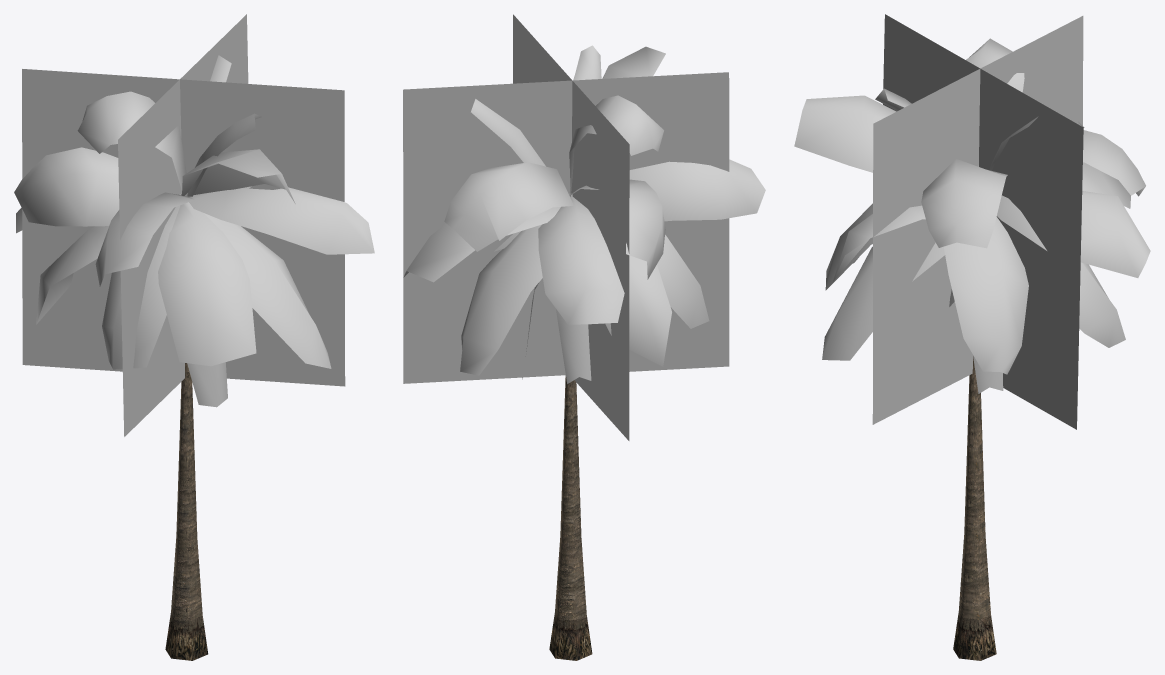
File: nature_palm_generic_lod00.FBX
3 views of the same model, side by side, from view 1: azimuth 30°, elevation 25°; view 2: azimuth 150°, elevation 25°; view 3: azimuth 270°, elevation 25° (orthographic).
Parts seen in each view (by area): view 1: nature_palm_generic_leaves_lod00, nature_palm_generic_bark_lod00; view 2: nature_palm_generic_leaves_lod00, nature_palm_generic_bark_lod00; view 3: nature_palm_generic_leaves_lod00, nature_palm_generic_bark_lod00.
Boxes of the visible parts, x1=… form: nature_palm_generic_leaves_lod00: x1=14, y1=14, x2=374, y2=436; nature_palm_generic_bark_lod00: x1=165, y1=363, x2=208, y2=660; nature_palm_generic_leaves_lod00: x1=403, y1=14, x2=765, y2=440; nature_palm_generic_bark_lod00: x1=549, y1=375, x2=592, y2=660; nature_palm_generic_leaves_lod00: x1=794, y1=14, x2=1150, y2=429; nature_palm_generic_bark_lod00: x1=953, y1=356, x2=996, y2=660.
Bounding box in the file's own units: 1347 × 2572 × 1429.
